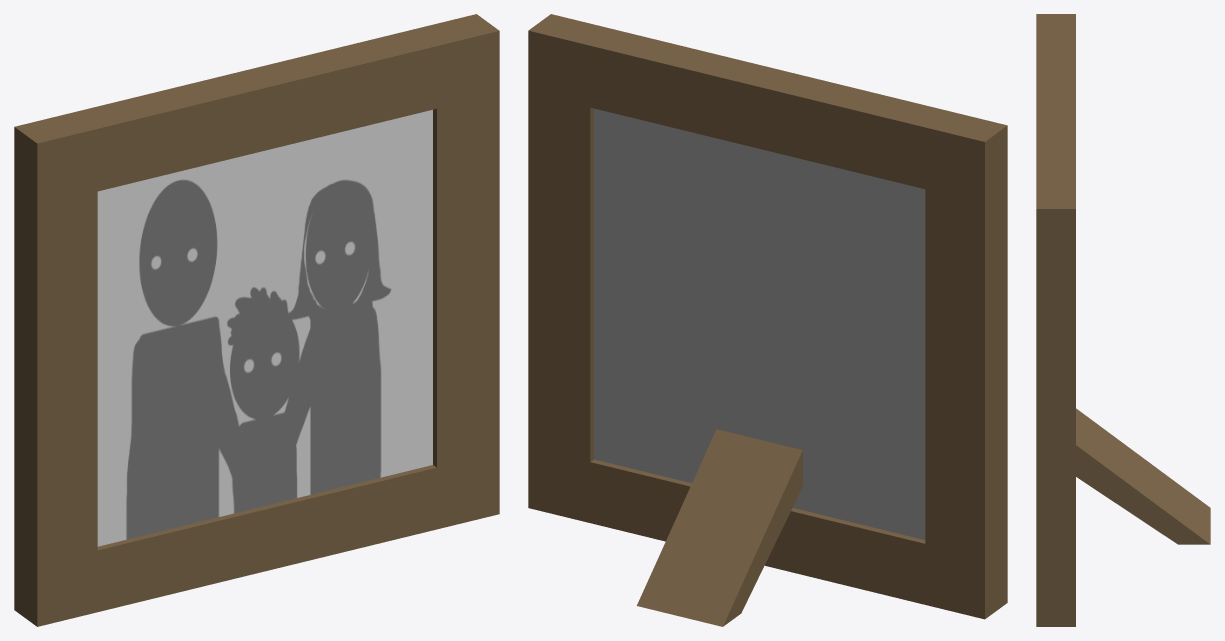
The model's file is Family_photo.fbx.
3 renders of one model, left to right at view 1: azimuth 30°, elevation 25°; view 2: azimuth 150°, elevation 25°; view 3: azimuth 270°, elevation 25°, orthographic. The views are drawn at different scales.
Visible parts, largest first — view 1: pCube1, pCube3; view 2: pCube1, pCube3, pCube2; view 3: pCube1, pCube2.
Part boxes in pixels (bbox=[...]): pCube1: bbox=[14, 14, 499, 626]; pCube3: bbox=[97, 110, 432, 546]; pCube1: bbox=[528, 14, 1007, 619]; pCube3: bbox=[594, 108, 925, 539]; pCube2: bbox=[637, 429, 803, 626]; pCube1: bbox=[1036, 14, 1075, 626]; pCube2: bbox=[1076, 408, 1210, 544].
Size of the model in its own units: 0.2322 by 0.232 by 0.0877.
3 materials, 1 textured.
